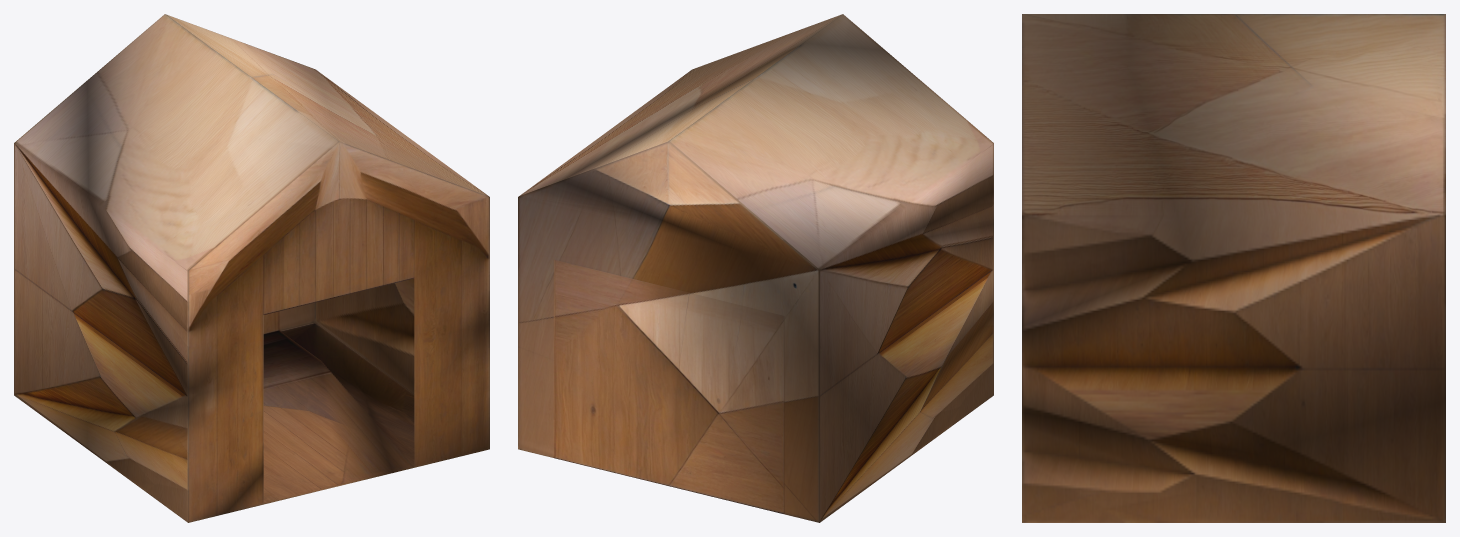
The model's file is home_001.obj.
3 views of the same model, side by side, from view 1: azimuth 30°, elevation 25°; view 2: azimuth 150°, elevation 25°; view 3: azimuth 270°, elevation 25° (orthographic). The views are drawn at different scales.
Parts seen in each view (by area): view 1: model; view 2: model; view 3: model.
Part boxes in pixels (x1,y1,x2,y2): model: (14, 14, 489, 522); model: (518, 14, 993, 522); model: (1022, 14, 1445, 522).
Size of the model in its own units: 1.83 by 2 by 1.83.
